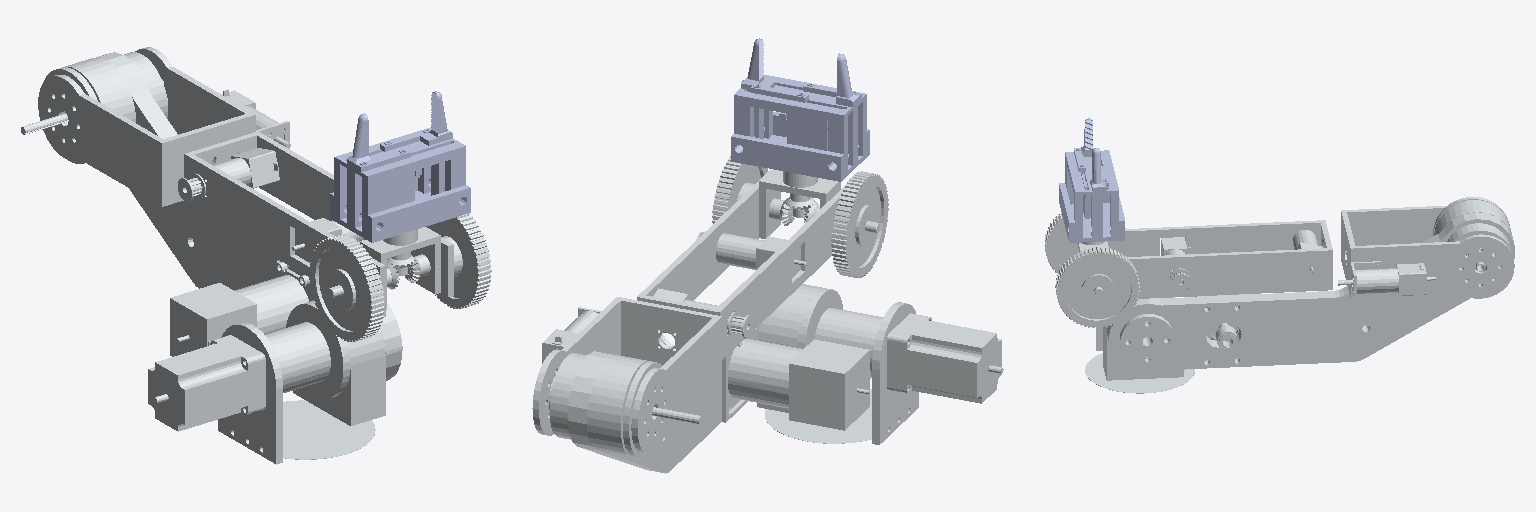
robot.urdf — ARM ASSEMBLY:
<?xml version="1.0" encoding="utf-8"?>
<!-- This URDF was automatically created by SolidWorks to URDF Exporter! Originally created by [author] ([email redacted]) 
     Commit Version: 1.6.0-4-g7f85cfe  Build Version: 1.6.7995.38578
     For more information, please see http://wiki.ros.org/sw_urdf_exporter -->
<robot
  name="ARM ASSEMBLY">
  <link
    name="base_link">
    <inertial>
      <origin
        xyz="-0.039622 -0.00022782 -0.00096737"
        rpy="0 0 0" />
      <mass
        value="2.8978" />
      <inertia
        ixx="0.0049823"
        ixy="-7.0622E-06"
        ixz="-4.9134E-08"
        iyy="0.010236"
        iyz="3.4527E-07"
        izz="0.014304" />
    </inertial>
    <visual>
      <origin
        xyz="0 0 0"
        rpy="0 0 0" />
      <geometry>
        <mesh
          filename="package://ARM ASSEMBLY/meshes/base_link.STL" />
      </geometry>
      <material
        name="">
        <color
          rgba="0.89804 0.91765 0.92941 1" />
      </material>
    </visual>
    <collision>
      <origin
        xyz="0 0 0"
        rpy="0 0 0" />
      <geometry>
        <mesh
          filename="package://ARM ASSEMBLY/meshes/base_link.STL" />
      </geometry>
    </collision>
  </link>
  <link
    name="link_1">
    <inertial>
      <origin
        xyz="1.381E-10 0.067643 0.029435"
        rpy="0 0 0" />
      <mass
        value="1.9055" />
      <inertia
        ixx="0.001681"
        ixy="1.2795E-11"
        ixz="-4.2285E-13"
        iyy="0.0014854"
        iyz="-2.3027E-05"
        izz="0.0020095" />
    </inertial>
    <visual>
      <origin
        xyz="0 0 0"
        rpy="0 0 0" />
      <geometry>
        <mesh
          filename="package://ARM ASSEMBLY/meshes/link_1.STL" />
      </geometry>
      <material
        name="">
        <color
          rgba="0.89804 0.91765 0.92941 1" />
      </material>
    </visual>
    <collision>
      <origin
        xyz="0 0 0"
        rpy="0 0 0" />
      <geometry>
        <mesh
          filename="package://ARM ASSEMBLY/meshes/link_1.STL" />
      </geometry>
    </collision>
  </link>
  <joint
    name="joint_1"
    type="revolute">
    <origin
      xyz="0 0 0.0076"
      rpy="1.5708 0 -1.4648" />
    <parent
      link="base_link" />
    <child
      link="link_1" />
    <axis
      xyz="0 1 0" />
    <limit
      lower="0"
      upper="6.284"
      effort="300"
      velocity="3" />
  </joint>
  <link
    name="link_2">
    <inertial>
      <origin
        xyz="-0.2066 -0.045057 -0.03072"
        rpy="0 0 0" />
      <mass
        value="3.888" />
      <inertia
        ixx="0.0047604"
        ixy="-7.425E-07"
        ixz="-0.0055748"
        iyy="0.033676"
        iyz="1.5382E-08"
        izz="0.031498" />
    </inertial>
    <visual>
      <origin
        xyz="0 0 0"
        rpy="0 0 0" />
      <geometry>
        <mesh
          filename="package://ARM ASSEMBLY/meshes/link_2.STL" />
      </geometry>
      <material
        name="">
        <color
          rgba="0.89804 0.91765 0.92941 1" />
      </material>
    </visual>
    <collision>
      <origin
        xyz="0 0 0"
        rpy="0 0 0" />
      <geometry>
        <mesh
          filename="package://ARM ASSEMBLY/meshes/link_2.STL" />
      </geometry>
    </collision>
  </link>
  <joint
    name="joint_2"
    type="revolute">
    <origin
      xyz="0 0.0754940000000001 0"
      rpy="1.5707963267949 0 0" />
    <parent
      link="link_1" />
    <child
      link="link_2" />
    <axis
      xyz="0 -1 0" />
    <limit
      lower="0"
      upper="3.142"
      effort="200"
      velocity="3" />
  </joint>
  <link
    name="link_3">
    <inertial>
      <origin
        xyz="-0.069243 0.082411 9.8376E-06"
        rpy="0 0 0" />
      <mass
        value="0.66718" />
      <inertia
        ixx="0.0014604"
        ixy="6.1725E-07"
        ixz="-2.9147E-10"
        iyy="0.00027698"
        iyz="1.0784E-07"
        izz="0.0013479" />
    </inertial>
    <visual>
      <origin
        xyz="0 0 0"
        rpy="0 0 0" />
      <geometry>
        <mesh
          filename="package://ARM ASSEMBLY/meshes/link_3.STL" />
      </geometry>
      <material
        name="">
        <color
          rgba="0.89804 0.91765 0.92941 1" />
      </material>
    </visual>
    <collision>
      <origin
        xyz="0 0 0"
        rpy="0 0 0" />
      <geometry>
        <mesh
          filename="package://ARM ASSEMBLY/meshes/link_3.STL" />
      </geometry>
    </collision>
  </link>
  <joint
    name="joint_3"
    type="revolute">
    <origin
      xyz="-0.382245567884187 -0.0102985715739413 -0.0885615943563487"
      rpy="-3.14159265358979 0 1.5707963267949" />
    <parent
      link="link_2" />
    <child
      link="link_3" />
    <axis
      xyz="1 0 0" />
    <limit
      lower="-4.713"
      upper="0"
      effort="200"
      velocity="3" />
  </joint>
  <link
    name="link_4">
    <inertial>
      <origin
        xyz="0.00037512 -0.19699 0.00039297"
        rpy="0 0 0" />
      <mass
        value="1.3208" />
      <inertia
        ixx="0.0044176"
        ixy="1.8659E-07"
        ixz="1.9877E-08"
        iyy="0.00056556"
        iyz="1.9996E-06"
        izz="0.0042001" />
    </inertial>
    <visual>
      <origin
        xyz="0 0 0"
        rpy="0 0 0" />
      <geometry>
        <mesh
          filename="package://ARM ASSEMBLY/meshes/link_4.STL" />
      </geometry>
      <material
        name="">
        <color
          rgba="0.89804 0.91765 0.92941 1" />
      </material>
    </visual>
    <collision>
      <origin
        xyz="0 0 0"
        rpy="0 0 0" />
      <geometry>
        <mesh
          filename="package://ARM ASSEMBLY/meshes/link_4.STL" />
      </geometry>
    </collision>
  </link>
  <joint
    name="joint_4"
    type="revolute">
    <origin
      xyz="-0.0508264284890597 0.153840499266872 0"
      rpy="0 0 -3.14159265358979" />
    <parent
      link="link_3" />
    <child
      link="link_4" />
    <axis
      xyz="0 1 0" />
    <limit
      lower="0"
      upper="6.284"
      effort="200"
      velocity="3" />
  </joint>
  <link
    name="link_5">
    <inertial>
      <origin
        xyz="4.7404E-08 -0.01885 3.481E-08"
        rpy="0 0 0" />
      <mass
        value="0.18281" />
      <inertia
        ixx="3.1828E-05"
        ixy="-8.3866E-10"
        ixz="4.4701E-11"
        iyy="3.1531E-05"
        iyz="6.7764E-12"
        izz="3.7152E-05" />
    </inertial>
    <visual>
      <origin
        xyz="0 0 0"
        rpy="0 0 0" />
      <geometry>
        <mesh
          filename="package://ARM ASSEMBLY/meshes/link_5.STL" />
      </geometry>
      <material
        name="">
        <color
          rgba="0.89804 0.91765 0.92941 1" />
      </material>
    </visual>
    <collision>
      <origin
        xyz="0 0 0"
        rpy="0 0 0" />
      <geometry>
        <mesh
          filename="package://ARM ASSEMBLY/meshes/link_5.STL" />
      </geometry>
    </collision>
  </link>
  <joint
    name="joint_5"
    type="revolute">
    <origin
      xyz="0 -0.290023127720036 0"
      rpy="-1.5707963267949 0 0" />
    <parent
      link="link_4" />
    <child
      link="link_5" />
    <axis
      xyz="-1 0 0" />
    <limit
      lower="0"
      upper="3.142"
      effort="200"
      velocity="3" />
  </joint>
  <link
    name="link_6">
    <inertial>
      <origin
        xyz="-0.0018507 6.7923E-10 -0.028053"
        rpy="0 0 0" />
      <mass
        value="0.17722" />
      <inertia
        ixx="9.285E-05"
        ixy="-9.694E-14"
        ixz="3.3777E-07"
        iyy="0.00024115"
        iyz="1.6543E-11"
        izz="0.00026751" />
    </inertial>
    <visual>
      <origin
        xyz="0 0 0"
        rpy="0 0 0" />
      <geometry>
        <mesh
          filename="package://ARM ASSEMBLY/meshes/link_6.STL" />
      </geometry>
      <material
        name="">
        <color
          rgba="0.79216 0.81961 0.93333 1" />
      </material>
    </visual>
    <collision>
      <origin
        xyz="0 0 0"
        rpy="0 0 0" />
      <geometry>
        <mesh
          filename="package://ARM ASSEMBLY/meshes/link_6.STL" />
      </geometry>
    </collision>
  </link>
  <joint
    name="joint_6"
    type="revolute">
    <origin
      xyz="0 -0.05601 0"
      rpy="-1.5708 0 0" />
    <parent
      link="link_5" />
    <child
      link="link_6" />
    <axis
      xyz="0 0 -1" />
    <limit
      lower="0"
      upper="6.284"
      effort="200"
      velocity="3" />
  </joint>
  <link
    name="gripper_1">
    <inertial>
      <origin
        xyz="0.038885 0.012049 0.01255"
        rpy="0 0 0" />
      <mass
        value="0.0075809" />
      <inertia
        ixx="1.5936E-06"
        ixy="3.3522E-07"
        ixz="-3.4613E-07"
        iyy="2.5908E-06"
        iyz="3.1502E-07"
        izz="1.5705E-06" />
    </inertial>
    <visual>
      <origin
        xyz="0 0 0"
        rpy="0 0 0" />
      <geometry>
        <mesh
          filename="package://ARM ASSEMBLY/meshes/gripper_1.STL" />
      </geometry>
      <material
        name="">
        <color
          rgba="0.79216 0.81961 0.93333 1" />
      </material>
    </visual>
    <collision>
      <origin
        xyz="0 0 0"
        rpy="0 0 0" />
      <geometry>
        <mesh
          filename="package://ARM ASSEMBLY/meshes/gripper_1.STL" />
      </geometry>
    </collision>
  </link>
  <joint
    name="gripper_1"
    type="prismatic">
    <origin
      xyz="0.00037333 -0.008425 -0.064"
      rpy="3.1416 0 3.1416" />
    <parent
      link="link_6" />
    <child
      link="gripper_1" />
    <axis
      xyz="-1 0 0" />
    <limit
      lower="0"
      upper="0.0381"
      effort="100"
      velocity="3" />
  </joint>
  <link
    name="gripper_2">
    <inertial>
      <origin
        xyz="0.047513 0.011323 0.011862"
        rpy="0 0 0" />
      <mass
        value="0.0081376" />
      <inertia
        ixx="1.6179E-06"
        ixy="4.6017E-07"
        ixz="-5.8156E-07"
        iyy="3.3658E-06"
        iyz="2.5926E-07"
        izz="2.2625E-06" />
    </inertial>
    <visual>
      <origin
        xyz="0 0 0"
        rpy="0 0 0" />
      <geometry>
        <mesh
          filename="package://ARM ASSEMBLY/meshes/gripper_2.STL" />
      </geometry>
      <material
        name="">
        <color
          rgba="0.79216 0.81961 0.93333 1" />
      </material>
    </visual>
    <collision>
      <origin
        xyz="0 0 0"
        rpy="0 0 0" />
      <geometry>
        <mesh
          filename="package://ARM ASSEMBLY/meshes/gripper_2.STL" />
      </geometry>
    </collision>
  </link>
  <joint
    name="gripper_2"
    type="prismatic">
    <origin
      xyz="-0.012 0.007575 -0.064"
      rpy="3.1416 0 0" />
    <parent
      link="link_6" />
    <child
      link="gripper_2" />
    <axis
      xyz="1 0 0" />
    <limit
      lower="-0.0381"
      upper="0"
      effort="100"
      velocity="3" />
  </joint>
</robot>

--- Render facts (derived) ---
Views: 3 orthographic renders of the robot side by side, from view 1: azimuth 30°, elevation 25°; view 2: azimuth 150°, elevation 25°; view 3: azimuth 270°, elevation 25°.
Robot: ARM ASSEMBLY — 9 links, 8 joints (6 revolute, 2 prismatic); root link base_link; default pose: every joint at zero.
Visible links, largest first — view 1: link_1, link_4, link_2, link_3, link_6, link_5, gripper_2, gripper_1; view 2: link_2, link_4, link_1, link_3, link_6, link_5, gripper_2, gripper_1; view 3: link_2, link_4, link_3, link_6, link_1, gripper_2, gripper_1.
Link boxes in pixels (x1=…): link_1: x1=148, y1=300, x2=385, y2=464; link_4: x1=178, y1=131, x2=491, y2=341; link_2: x1=21, y1=52, x2=402, y2=380; link_3: x1=38, y1=47, x2=290, y2=206; link_6: x1=330, y1=127, x2=470, y2=242; link_5: x1=360, y1=227, x2=440, y2=309; gripper_2: x1=380, y1=91, x2=452, y2=151; gripper_1: x1=347, y1=113, x2=410, y2=171; link_2: x1=549, y1=326, x2=870, y2=473; link_4: x1=637, y1=156, x2=888, y2=359; link_1: x1=757, y1=284, x2=1003, y2=444; link_3: x1=532, y1=297, x2=721, y2=453; link_6: x1=731, y1=75, x2=869, y2=181; link_5: x1=759, y1=169, x2=840, y2=238; gripper_2: x1=741, y1=38, x2=808, y2=102; gripper_1: x1=803, y1=53, x2=861, y2=106; link_2: x1=1107, y1=197, x2=1514, y2=373; link_4: x1=1045, y1=213, x2=1332, y2=327; link_3: x1=1338, y1=206, x2=1514, y2=298; link_6: x1=1059, y1=150, x2=1124, y2=242; link_1: x1=1085, y1=297, x2=1194, y2=393; gripper_2: x1=1090, y1=148, x2=1108, y2=191; gripper_1: x1=1074, y1=118, x2=1093, y2=173.
Bounding box of the posed robot: 0.3055 × 0.5421 × 0.3321 m (x, y, z).
Meshes: 9 distinct files referenced, 8 mesh visuals loaded (8 binary STL); not drawn: 1 (reference not matched to a file when rendering).